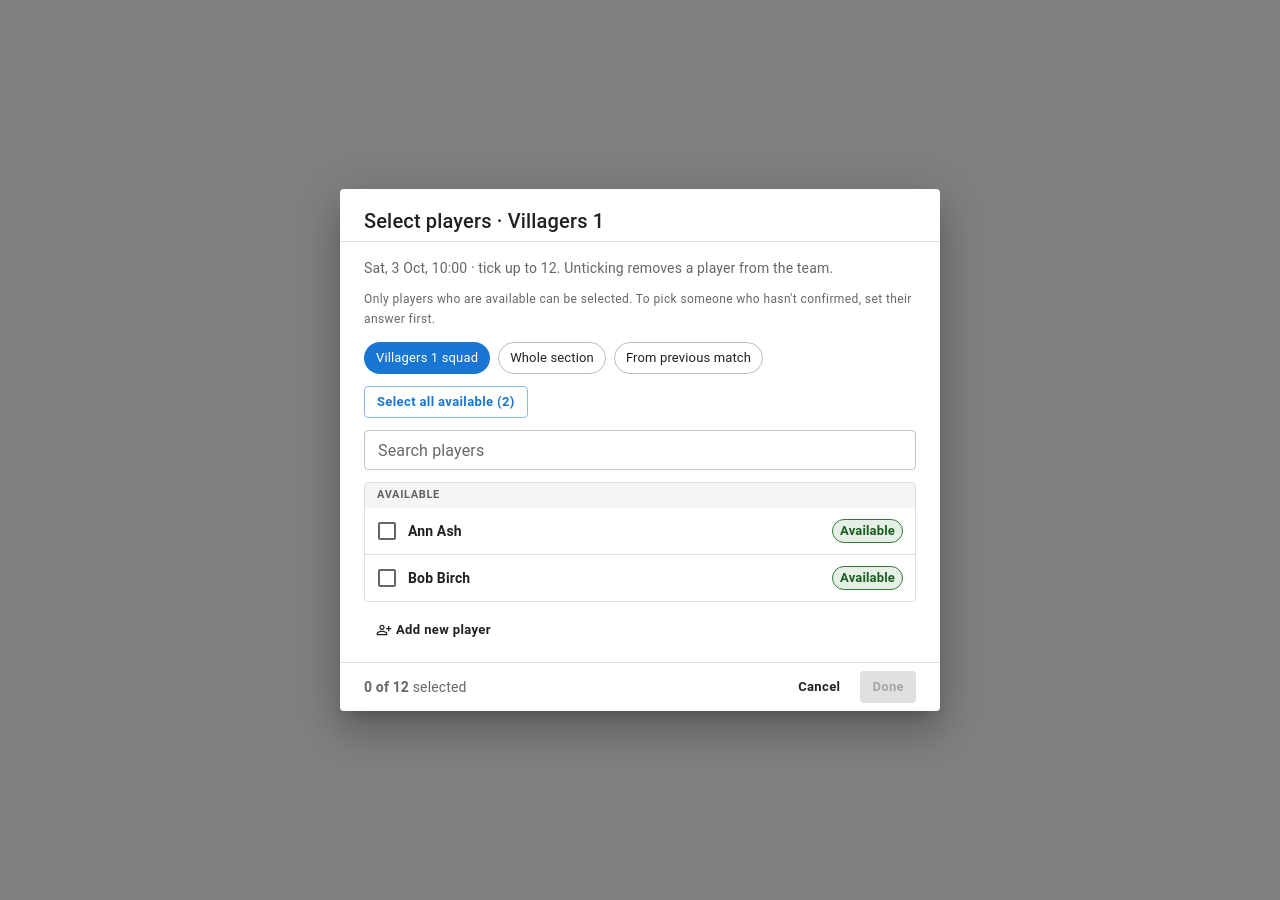
Test case: SelectPlayersDialog › Done › a refused apply keeps the dialog open, shows per-row messages and unticks the refused players
The image size is (1280, 900).
Click the checkbox labelled "Ann Ash".
click(418, 531)  # box [375,519,462,543]
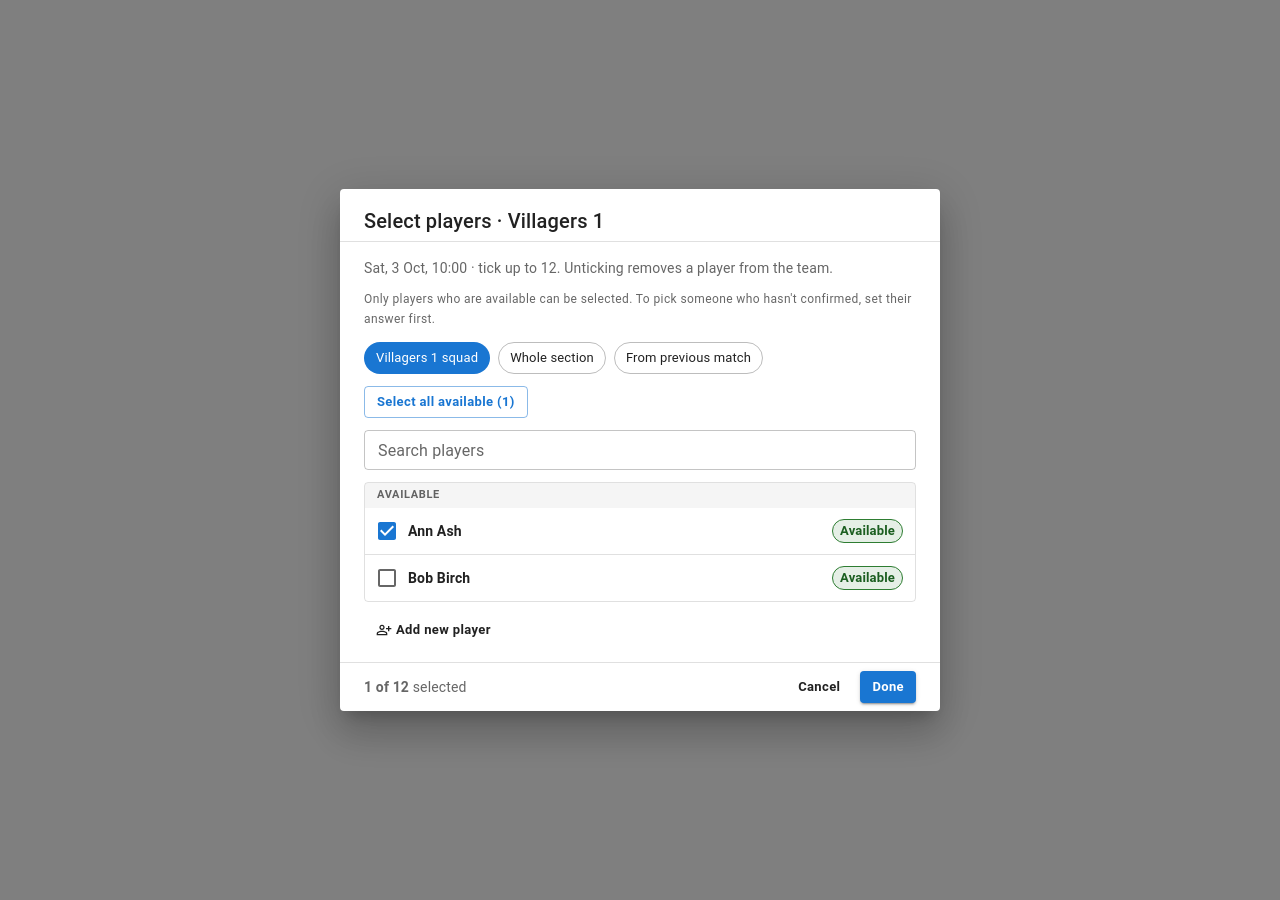
Click the checkbox labelled "Bob Birch".
click(423, 578)  # box [375,566,470,590]
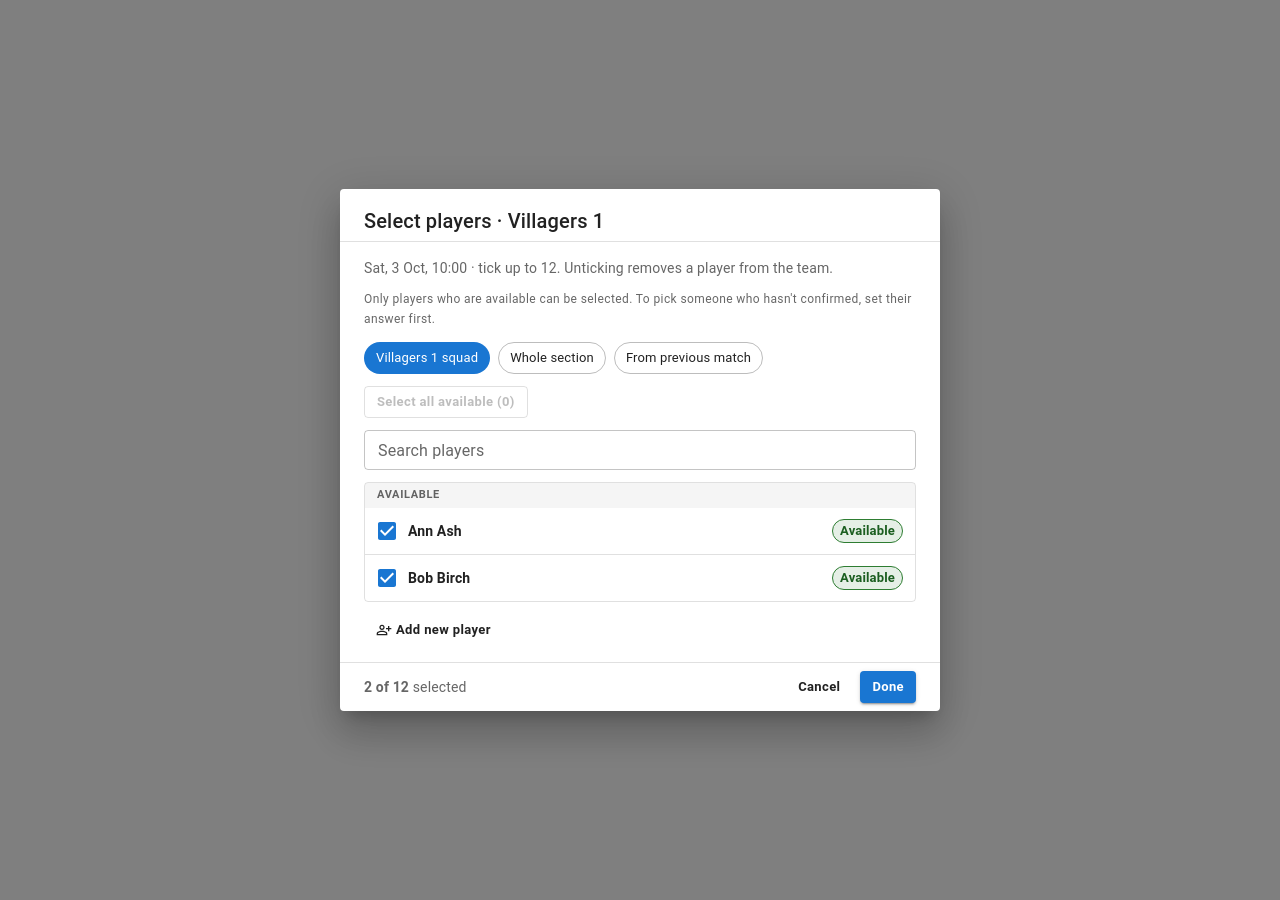
Click the button "Done".
click(888, 687)  # box [860,671,916,703]
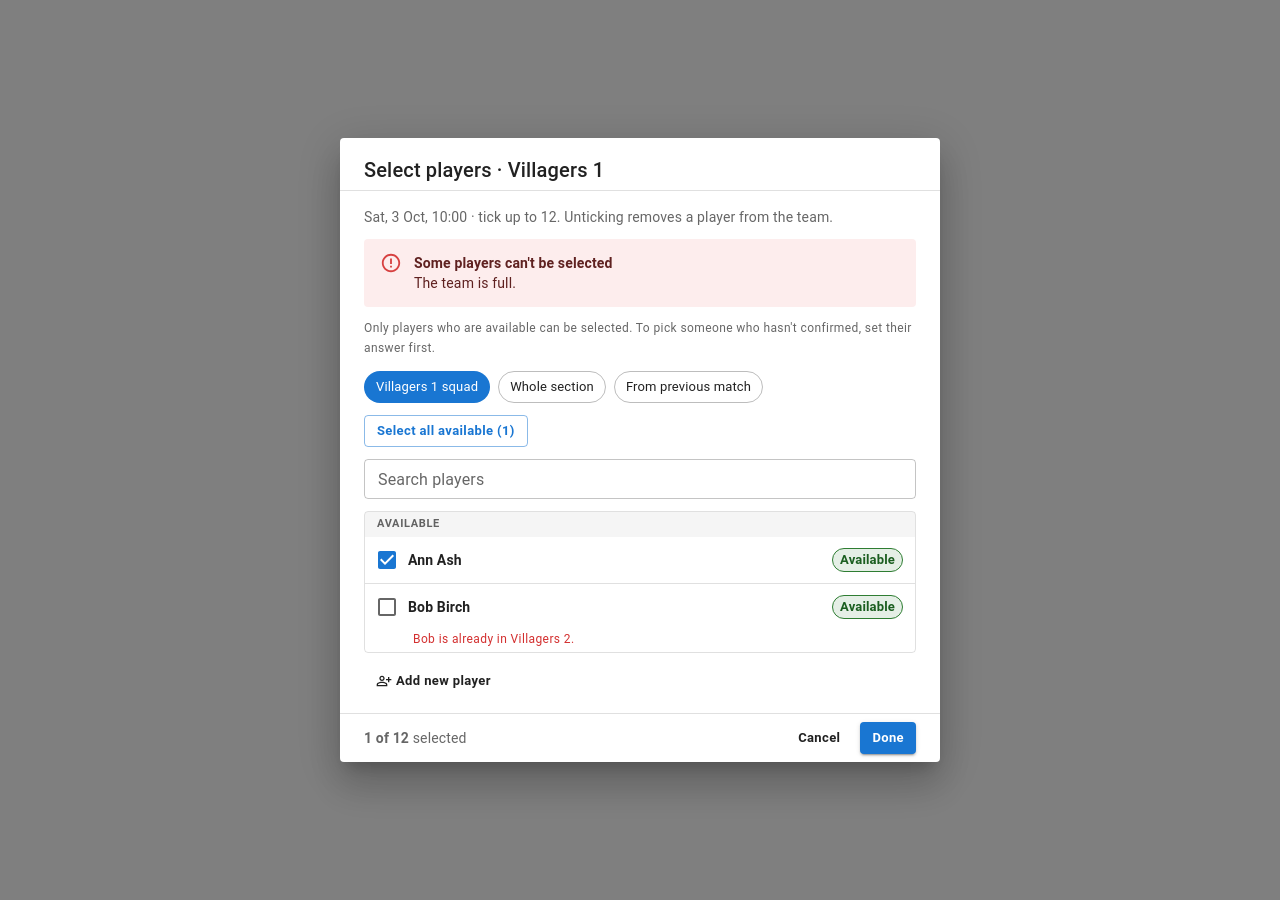
Result: the text "Some players can't be selected" is shown at [414,253,613,273]
Result: the text "The team is full." is shown at [414,275,516,291]
Result: the text "Bob is already in Villagers 2." is shown at [413,632,574,646]
